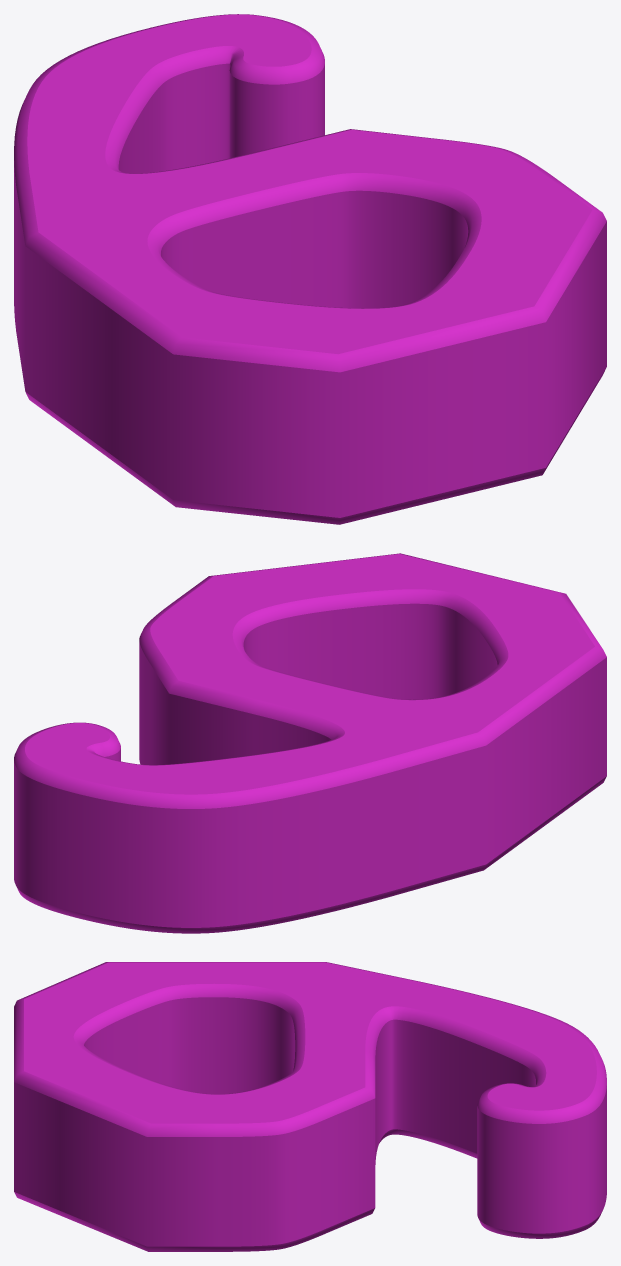
The model's file is Number_9.fbx.
3 views of the same model, one above another, from view 1: azimuth 30°, elevation 25°; view 2: azimuth 150°, elevation 25°; view 3: azimuth 270°, elevation 25° (orthographic). The views are drawn at different scales.
Parts seen in each view (by area): view 1: Number_9; view 2: Number_9; view 3: Number_9.
Part boxes in pixels (x1,y1,x2,y2): Number_9: (14,14,606,524); Number_9: (14,553,606,933); Number_9: (14,962,606,1251).
Bounding box in the file's own units: 0.3985 × 0.14 × 0.5882.
